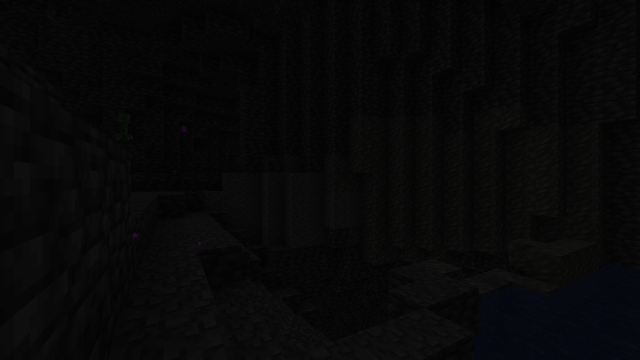creepers: (117, 111, 130, 141)
